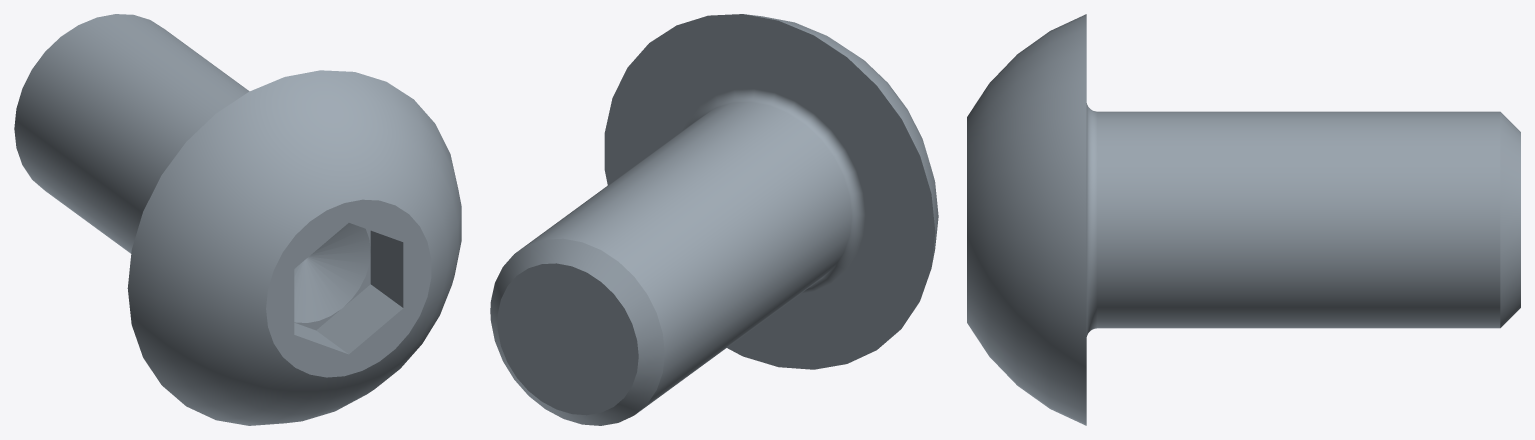
Rendered from Socket_button_head_screw_M4x0_7_x_8.obj.
The picture shows the model from 3 angles, left to right: view 1: azimuth 30°, elevation 25°; view 2: azimuth 150°, elevation 25°; view 3: azimuth 270°, elevation 25°; orthographic projection. The views are drawn at different scales.
Visible parts, largest first — view 1: mesh496, mesh493, mesh497, mesh505, mesh502, mesh503, mesh501; view 2: mesh493, mesh495, mesh491, mesh492, mesh494, mesh496; view 3: mesh493, mesh496, mesh492, mesh494.
Boxes of the visible parts, x1=… form: mesh496: x1=127, y1=70, x2=461, y2=425; mesh493: x1=14, y1=14, x2=249, y2=253; mesh497: x1=266, y1=199, x2=431, y2=377; mesh505: x1=294, y1=223, x2=370, y2=322; mesh502: x1=316, y1=284, x2=402, y2=354; mesh503: x1=370, y1=230, x2=403, y2=307; mesh501: x1=294, y1=322, x2=347, y2=353; mesh493: x1=516, y1=102, x2=851, y2=414; mesh495: x1=604, y1=14, x2=935, y2=369; mesh491: x1=497, y1=263, x2=638, y2=415; mesh492: x1=490, y1=238, x2=664, y2=425; mesh494: x1=682, y1=89, x2=865, y2=293; mesh496: x1=745, y1=14, x2=938, y2=266; mesh493: x1=1097, y1=111, x2=1500, y2=328; mesh496: x1=967, y1=14, x2=1086, y2=425; mesh492: x1=1500, y1=112, x2=1520, y2=327; mesh494: x1=1086, y1=103, x2=1097, y2=336.
Size of the model in its own units: 0.00758 by 0.00759 by 0.0102.
